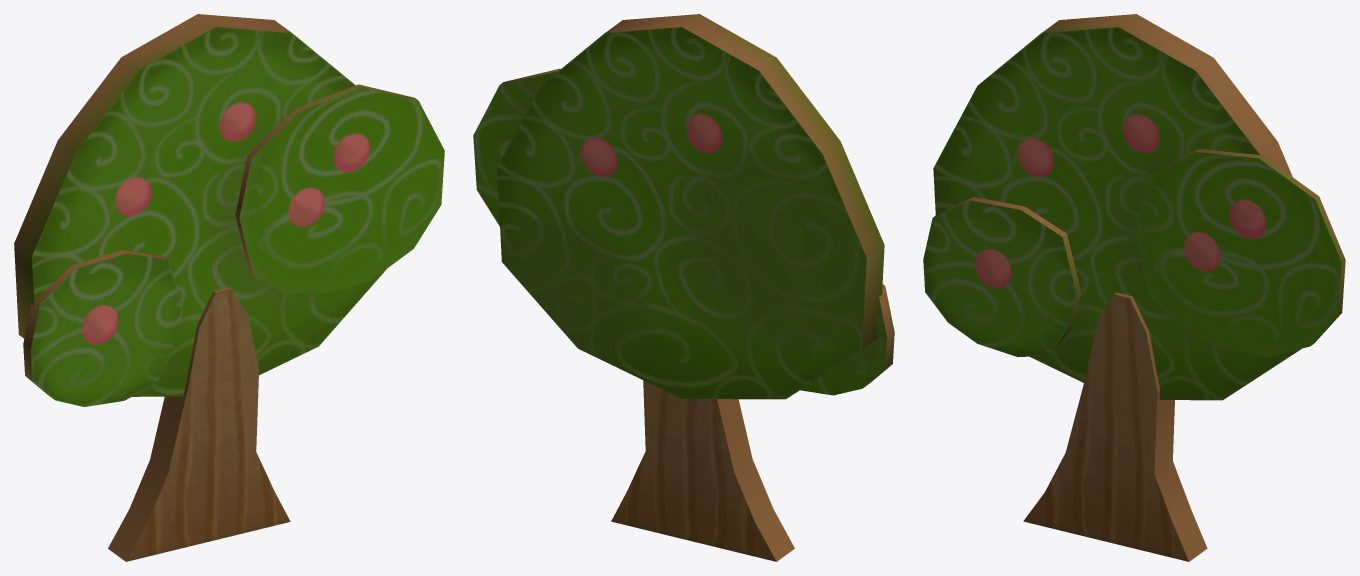
File: tree.FBX
3 views of the same model, side by side, from view 1: azimuth 30°, elevation 25°; view 2: azimuth 150°, elevation 25°; view 3: azimuth 330°, elevation 25° (orthographic).
Parts seen in each view (by area): view 1: Cylinder008; view 2: Cylinder008; view 3: Cylinder008.
Part boxes in pixels (x1,y1,x2,y2): Cylinder008: [14, 14, 444, 561]; Cylinder008: [473, 14, 894, 561]; Cylinder008: [923, 14, 1345, 561].
Size of the model in its own units: 19.88 by 23.4 by 1.84.
